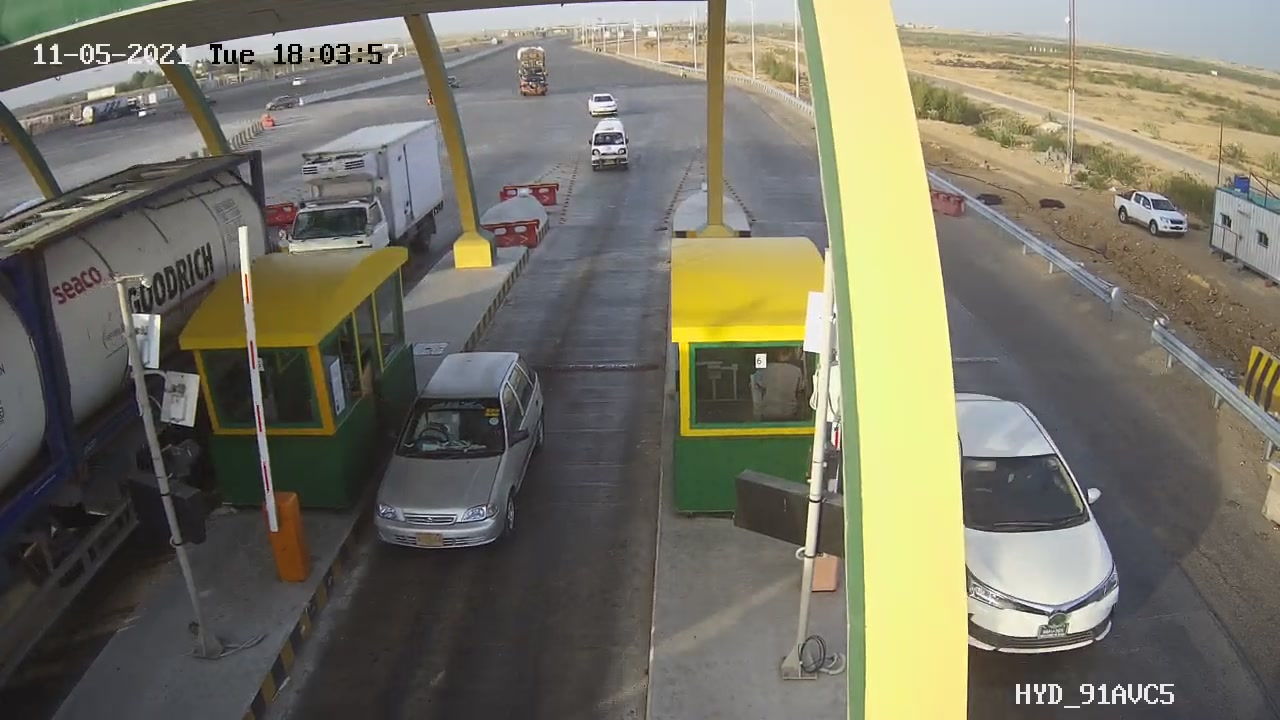F1: (359, 340, 568, 570)
